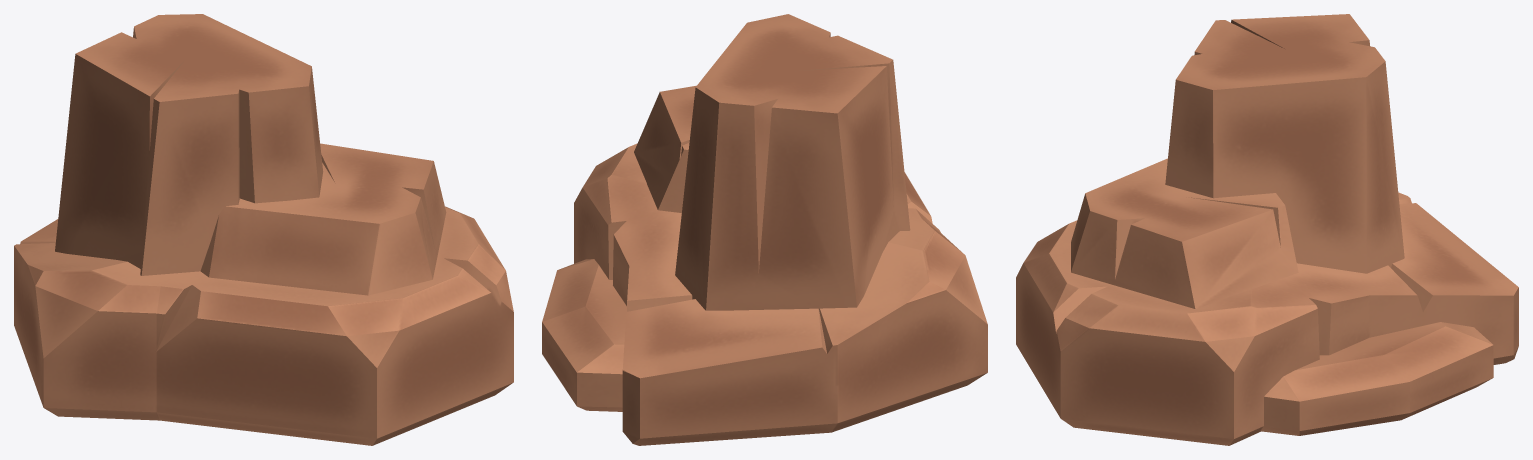
Rendered from small_rock_02.glb.
The picture shows the model from 3 angles, left to right: view 1: azimuth 30°, elevation 25°; view 2: azimuth 150°, elevation 25°; view 3: azimuth 270°, elevation 25°; orthographic projection. The views are drawn at different scales.
Visible parts, largest first — view 1: Cube.003_small_rock_0; view 2: Cube.003_small_rock_0; view 3: Cube.003_small_rock_0.
Part boxes in pixels (x1,y1,x2,y2): Cube.003_small_rock_0: (14,14,513,445); Cube.003_small_rock_0: (542,14,987,445); Cube.003_small_rock_0: (1016,14,1518,445).
Size of the model in its own units: 2.67 by 1.87 by 2.9.
Materials: 1 (1 with a texture image).
